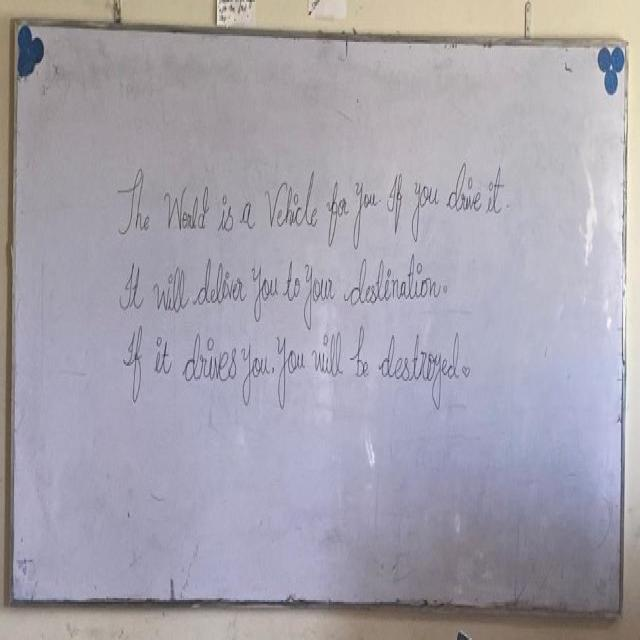White-board: (9, 22, 624, 618)
